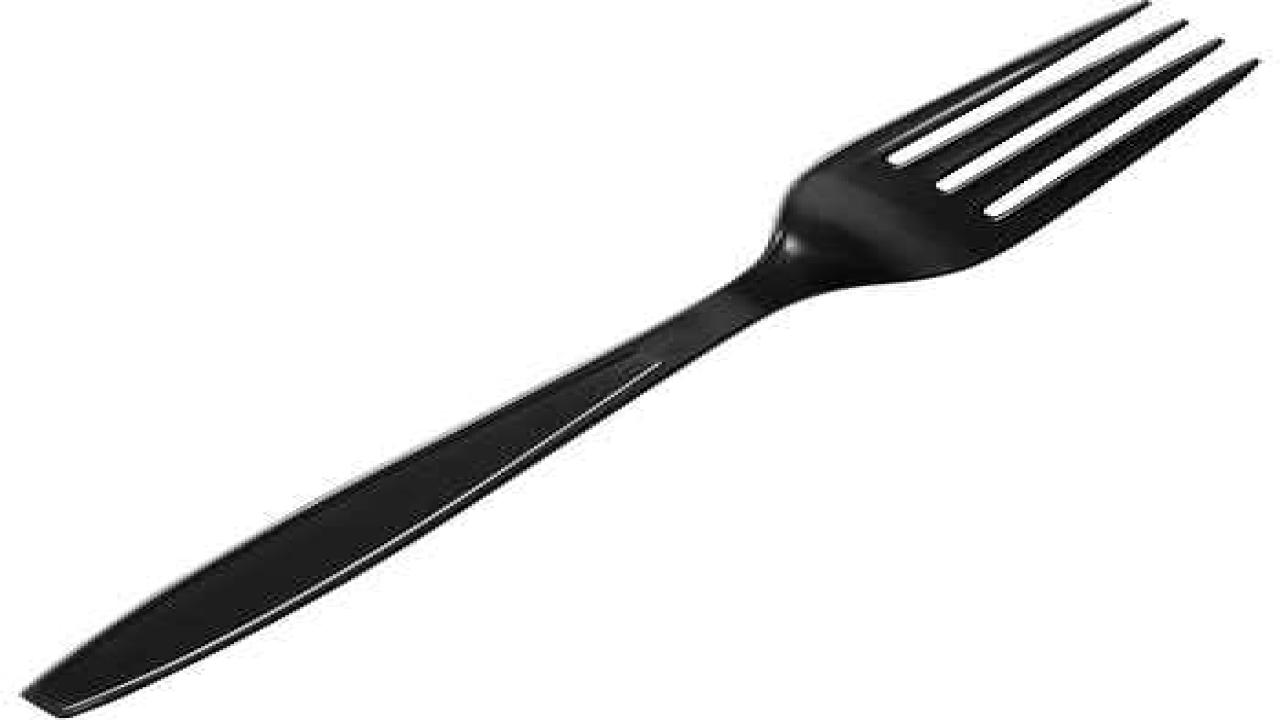fork: (14, 0, 1262, 716)
